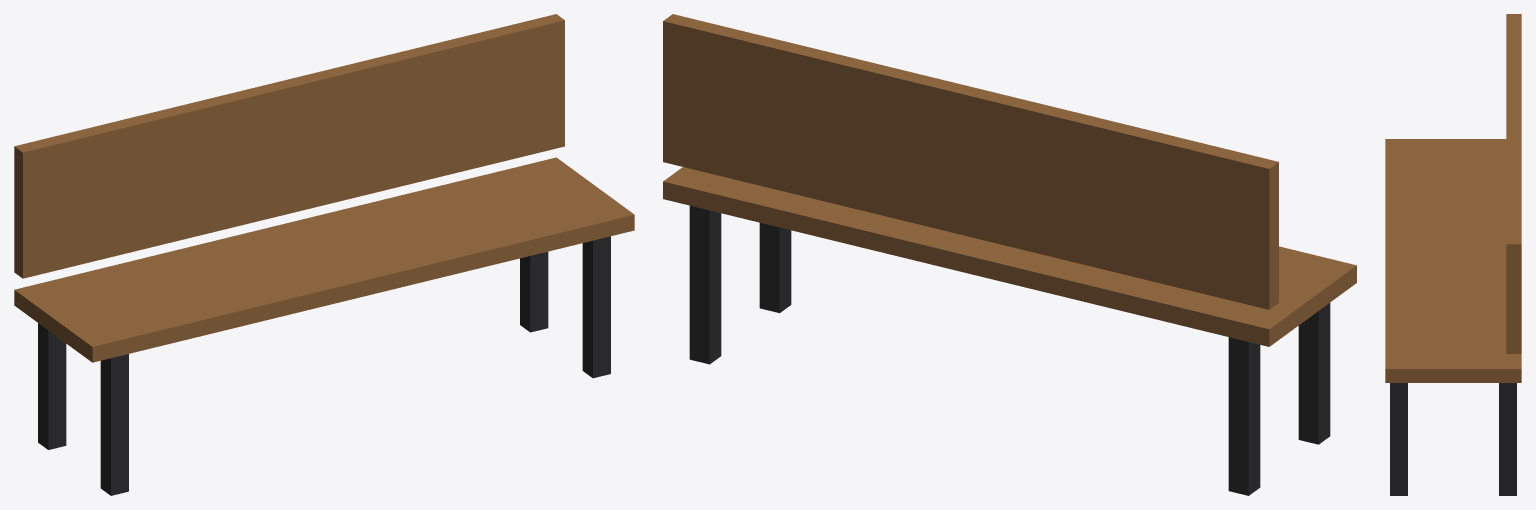
File: park-bench.glb
The picture shows the model from 3 angles, left to right: view 1: azimuth 30°, elevation 25°; view 2: azimuth 150°, elevation 25°; view 3: azimuth 270°, elevation 25°; orthographic projection. The views are drawn at different scales.
Parts seen in each view (by area): view 1: park-bench_5, park-bench_4, park-bench_2, park-bench_0, park-bench_1, park-bench_3; view 2: park-bench_5, park-bench_4, park-bench_1, park-bench_3, park-bench_0, park-bench_2; view 3: park-bench_4, park-bench_5, park-bench_2, park-bench_3.
Part boxes in pixels (x1,y1,x2,y2): park-bench_5: (14,14,564,278); park-bench_4: (14,157,634,362); park-bench_2: (582,236,610,378); park-bench_0: (100,354,128,495); park-bench_1: (38,323,66,449); park-bench_3: (520,251,548,332); park-bench_5: (663,14,1278,309); park-bench_4: (663,167,1356,346); park-bench_1: (1228,337,1260,495); park-bench_3: (689,205,721,364); park-bench_0: (1298,303,1330,444); park-bench_2: (759,223,791,313); park-bench_4: (1385,139,1521,382); park-bench_5: (1506,14,1521,353); park-bench_2: (1390,383,1407,495); park-bench_3: (1499,383,1516,495).
Size of the model in its own units: 1.8 by 0.95 by 0.45.
